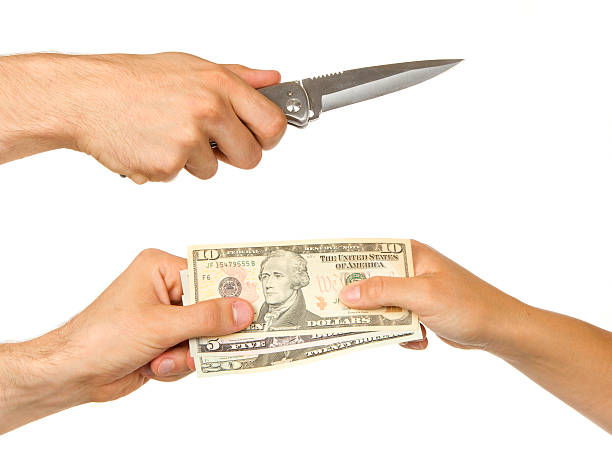knife: (254, 56, 466, 131)
